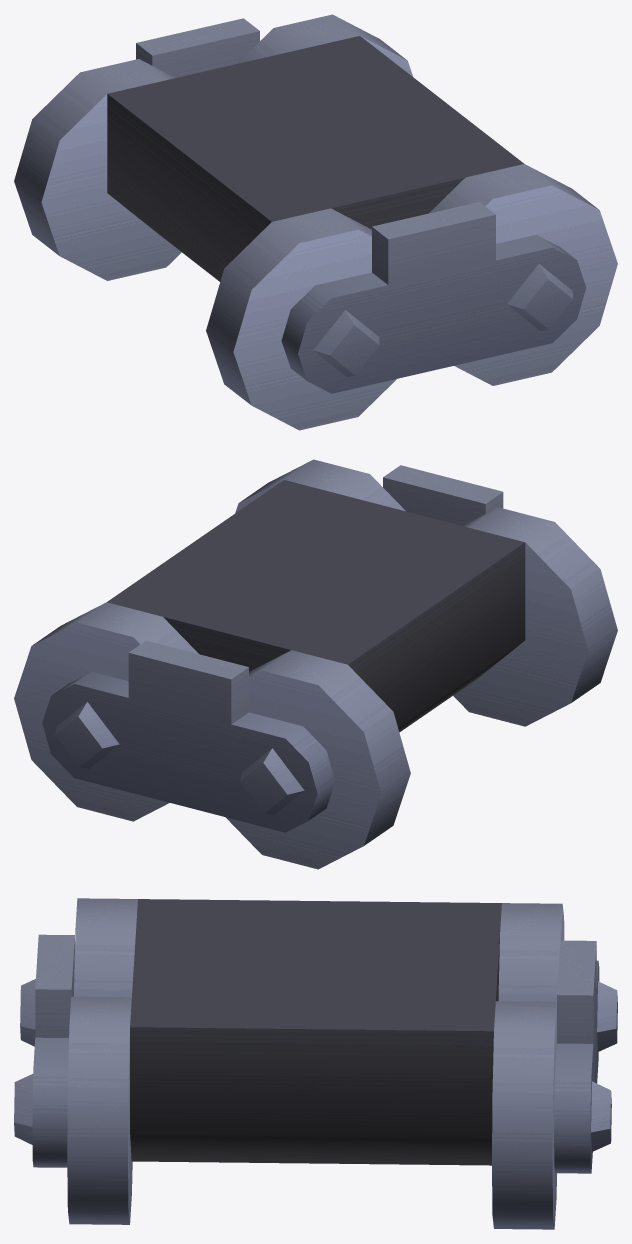
File: wheels-front.005_lev2.glb
3 renders of one model, top to bottom at view 1: azimuth 30°, elevation 25°; view 2: azimuth 150°, elevation 25°; view 3: azimuth 270°, elevation 25°, orthographic. The views are drawn at different scales.
Visible parts, largest first — view 1: wheels-front.005_lev2; view 2: wheels-front.005_lev2; view 3: wheels-front.005_lev2.
Part boxes in pixels (box(x1,y1,x2,y2)): wheels-front.005_lev2: box(14, 14, 617, 430); wheels-front.005_lev2: box(14, 459, 617, 869); wheels-front.005_lev2: box(14, 898, 617, 1229).
Size of the model in its own units: 0.7819 by 0.3595 by 0.9954.
Materials: 1 (1 with a texture image).
